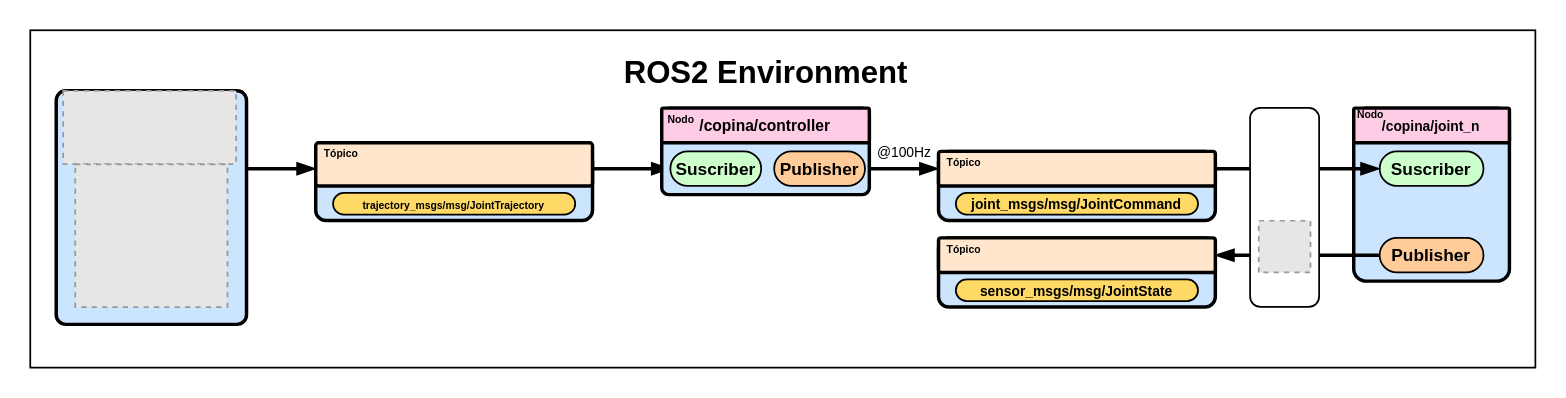
This 1566x398 diagram has some shape labels left out. Grey dashed boxes stand in for pictures. Here are the shapes that lost their labels. From the top down, the box of each, then its label:
(313, 140, 593, 187): /joint_trajectory_controller/joint_trajectory
(936, 149, 1216, 187): /copina/joint_n/command
(1248, 106, 1319, 307): Agent
(936, 235, 1216, 273): /copina/joint_n/feedback
